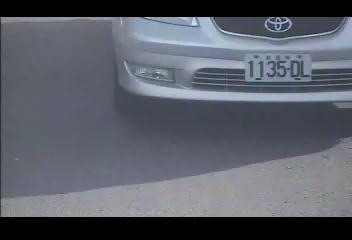plate: (244, 52, 311, 82)
